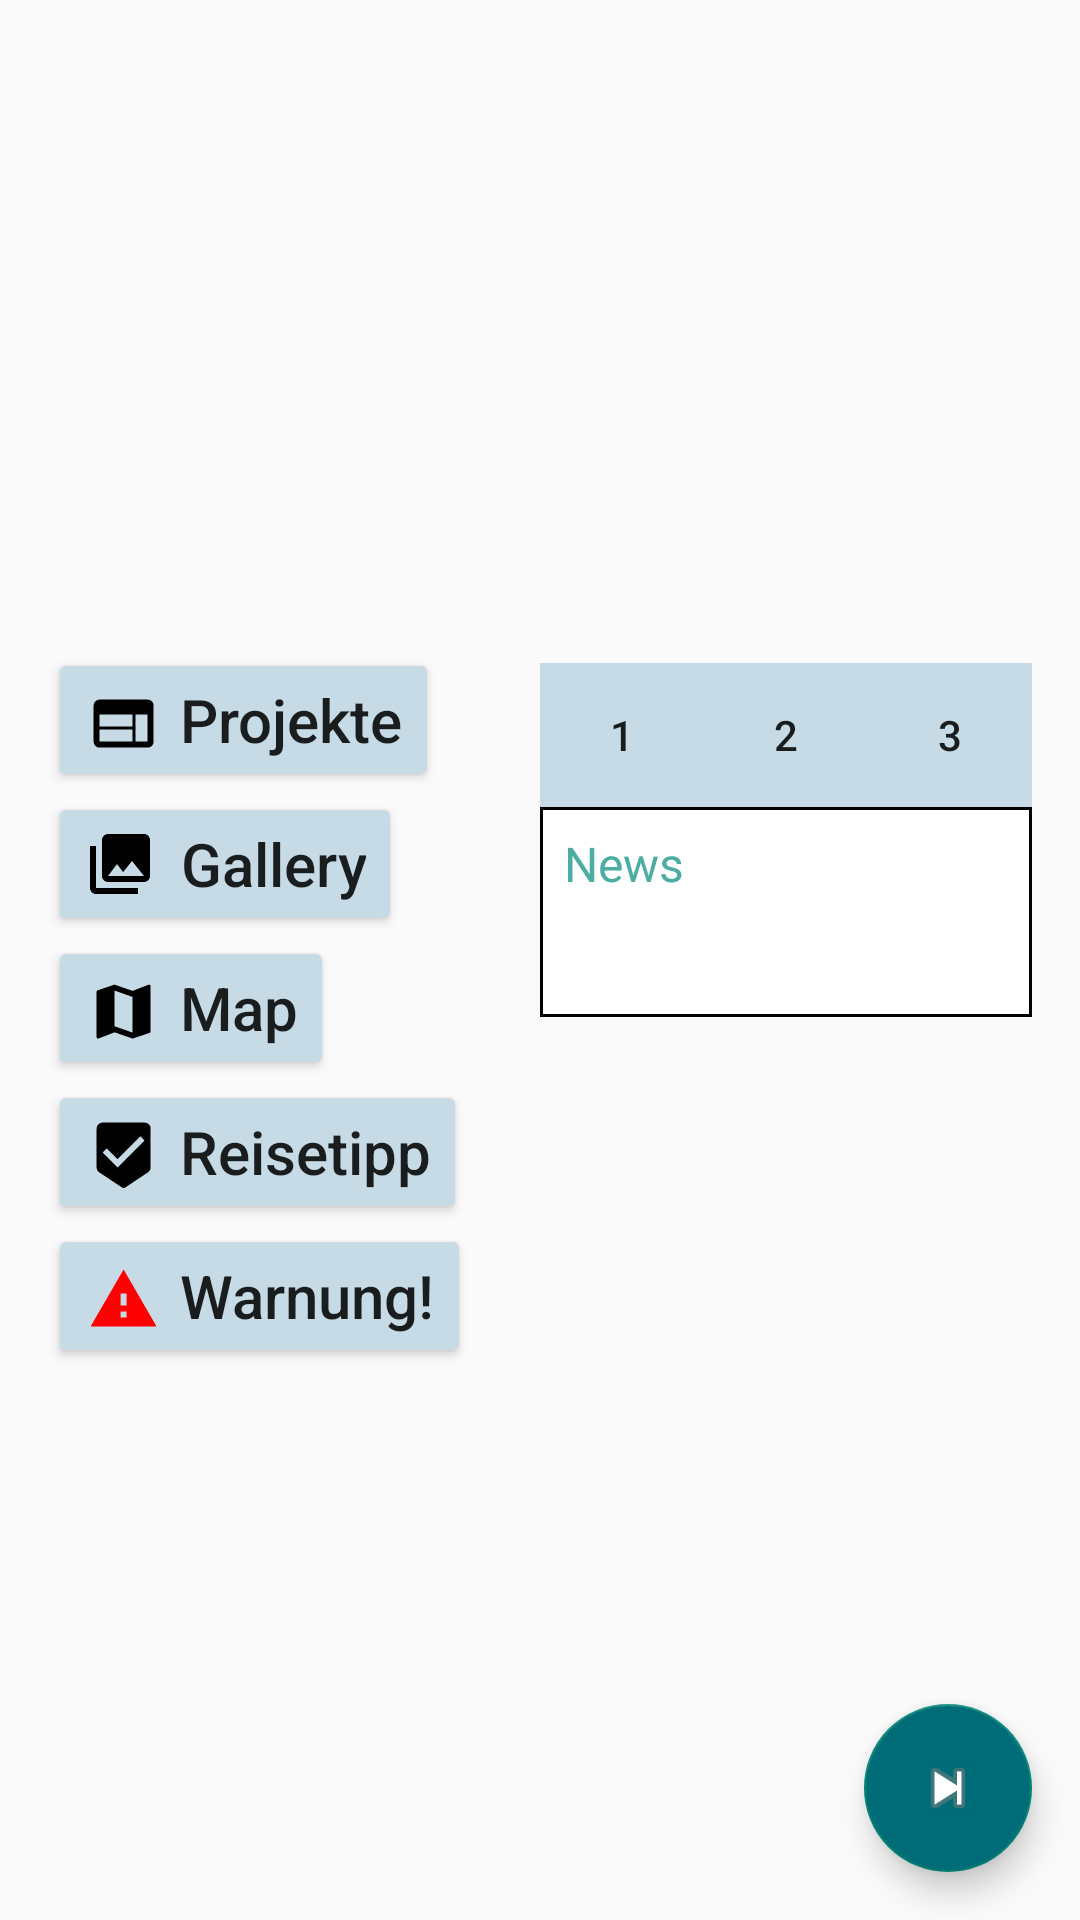

Named icons in this screenshot (1080*1920) and their bounding boxes, rect(x1, y1, x2, y2):
next: rect(864, 1704, 1032, 1872)
